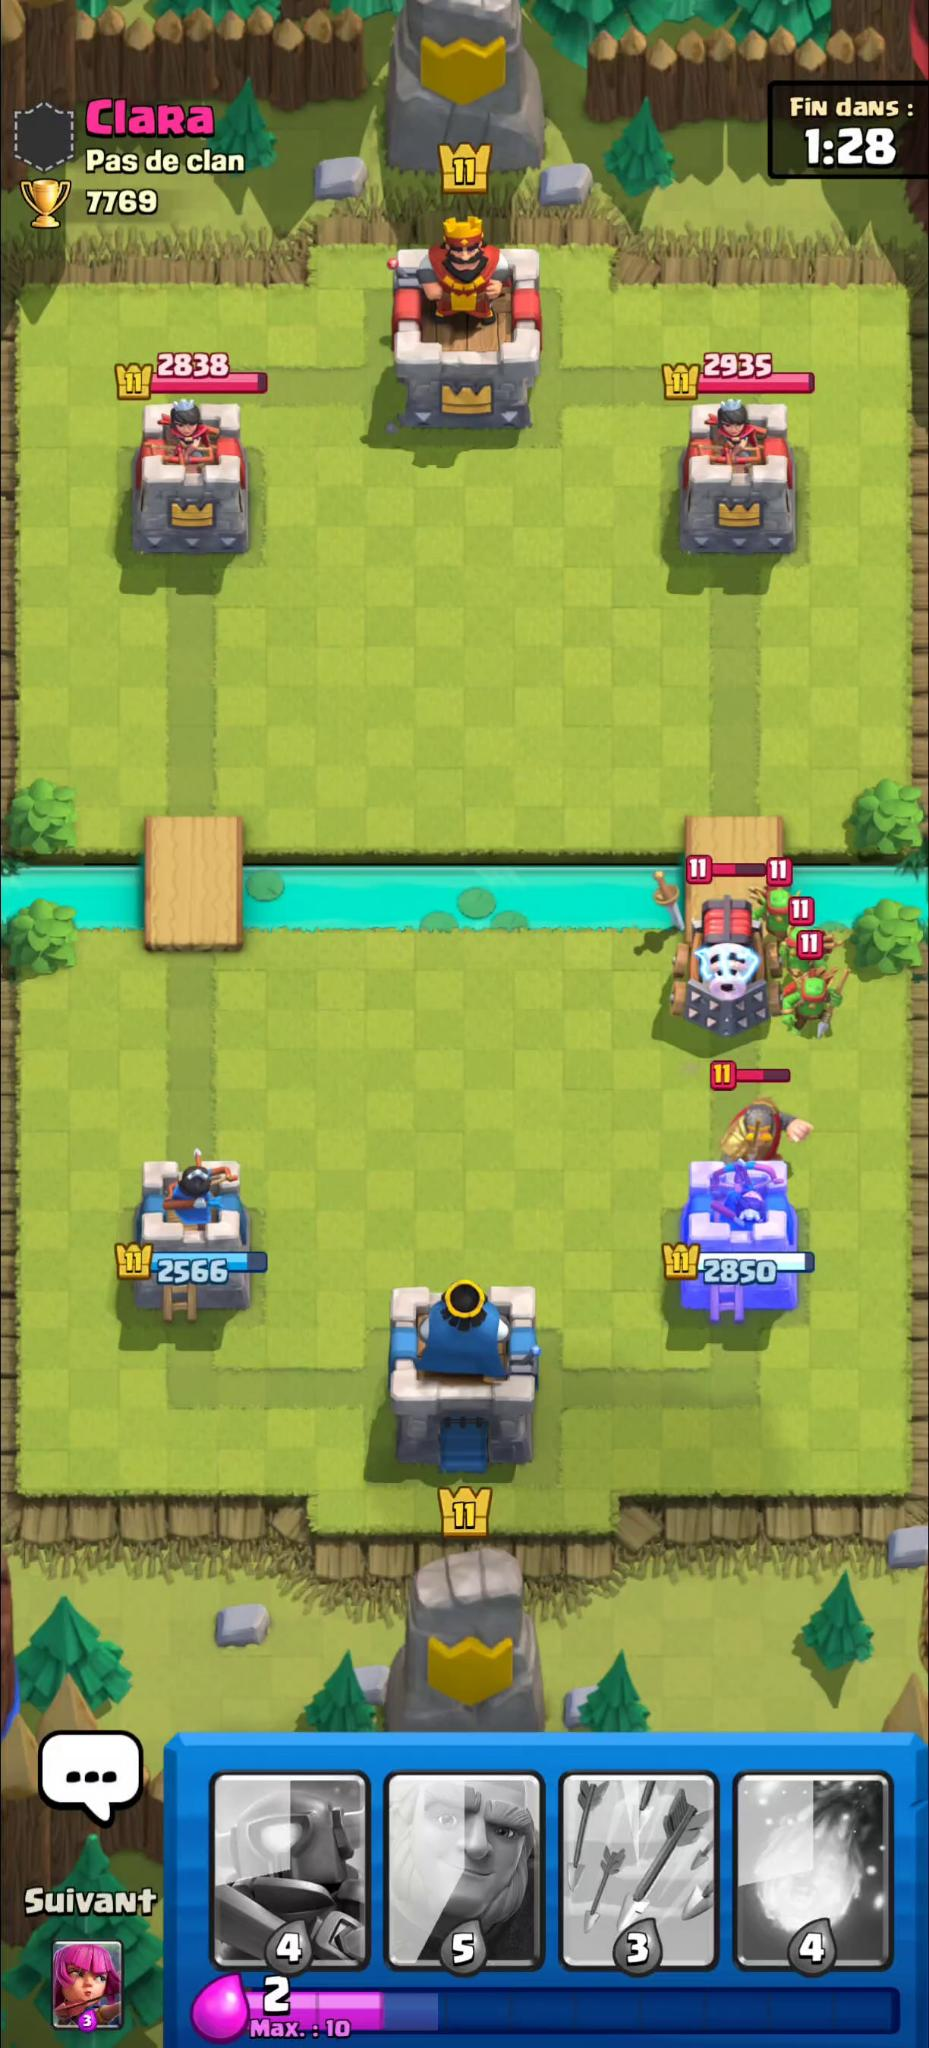chevalier: (719, 1093, 815, 1165)
gobelin_lances: (779, 969, 855, 1038), (772, 925, 840, 984), (751, 883, 806, 939)
zappy: (674, 899, 785, 1040)
